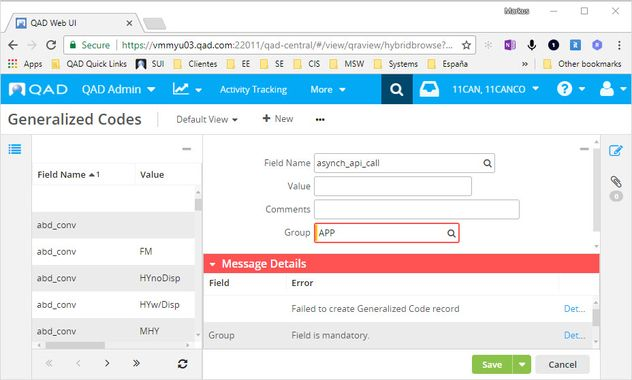error_field: (314, 222, 460, 244)
error_message: (222, 256, 309, 271)
